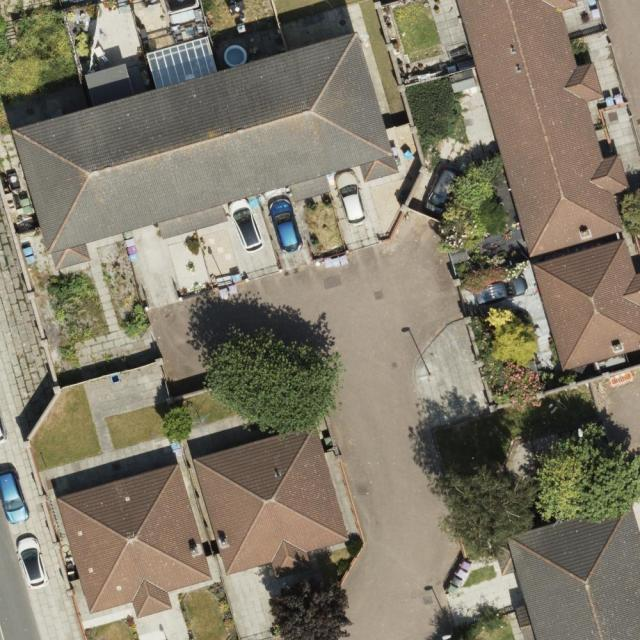roof: (8, 31, 401, 274), (451, 0, 640, 376), (190, 421, 352, 577), (55, 462, 211, 617), (508, 502, 640, 640)
skylight: (151, 35, 217, 90)
